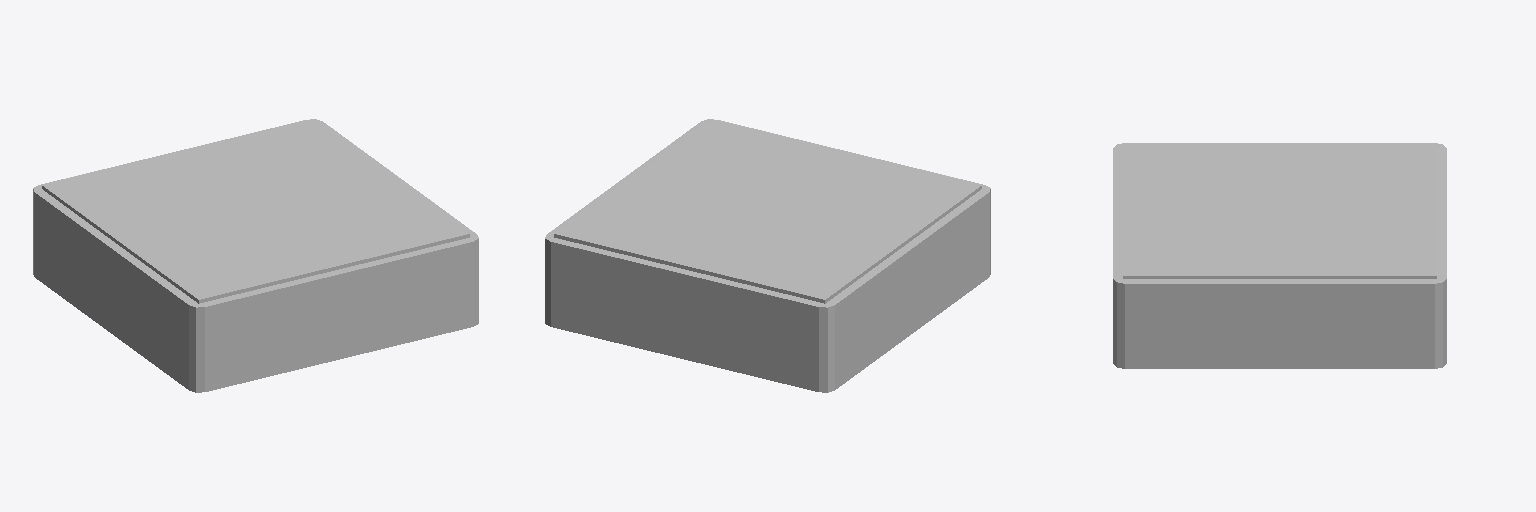
File: floor.obj
The picture shows the model from 3 angles: view 1: azimuth 30°, elevation 25°; view 2: azimuth 150°, elevation 25°; view 3: azimuth 270°, elevation 25°; orthographic projection.
Visible parts, largest first — view 1: pCube8; view 2: pCube8; view 3: pCube8.
Part boxes in pixels (bbox=[...]): pCube8: bbox=[33, 119, 478, 392]; pCube8: bbox=[545, 119, 990, 392]; pCube8: bbox=[1113, 143, 1446, 368].
Bounding box in the file's own units: 1.35 × 0.4171 × 1.35.